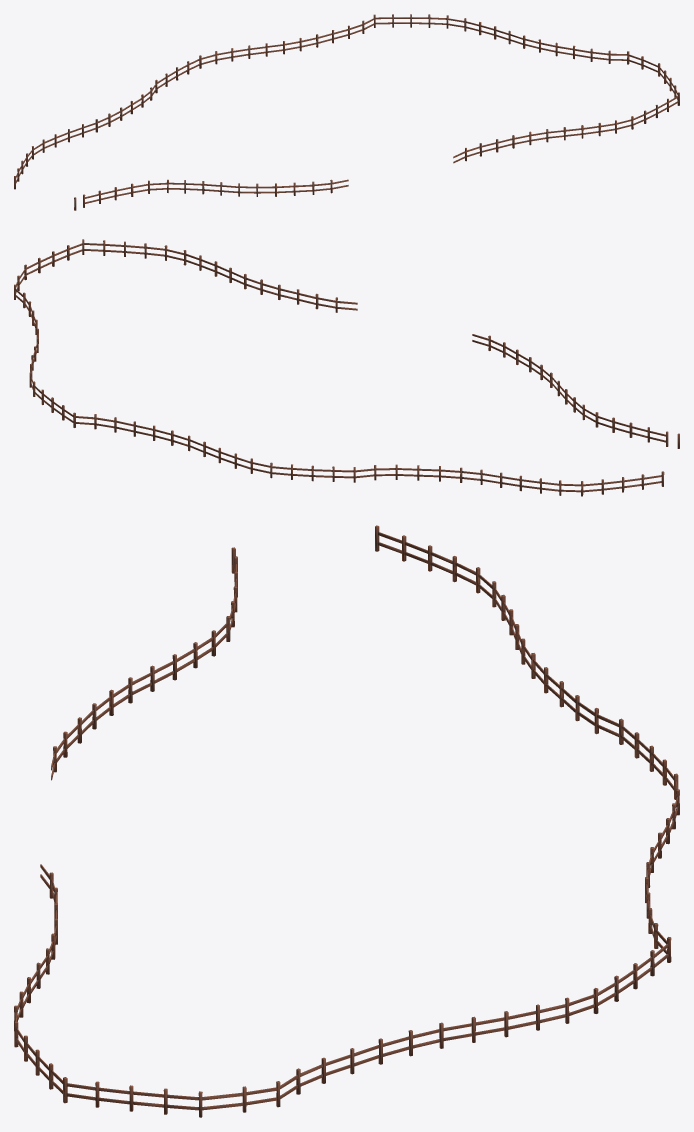
File: fence.glb
3 renders of one model, top to bottom at view 1: azimuth 30°, elevation 25°; view 2: azimuth 150°, elevation 25°; view 3: azimuth 270°, elevation 25°, orthographic. The views are drawn at different scales.
Visible parts, largest first — view 1: rock.001; view 2: rock.001; view 3: rock.001.
Boxes of the visible parts, bbox=[...] form: rock.001: bbox=[14, 14, 679, 210]; rock.001: bbox=[14, 239, 679, 496]; rock.001: bbox=[14, 525, 679, 1117].
Bounding box in the file's own units: 45.85 × 0.9341 × 22.73.
1 material, 1 textured.
